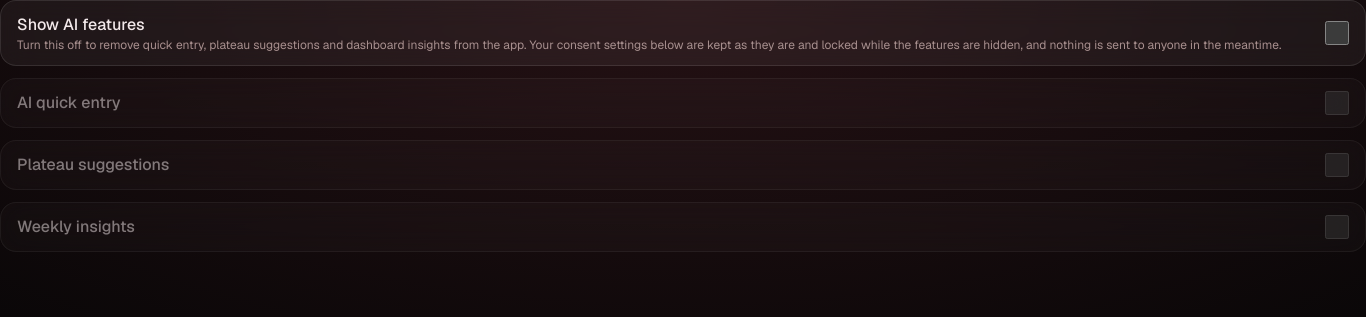
the AI settings section › releases them again when the master switch is turned back on
Click the checkbox labelled "Show AI features".
click(1337, 33)  # box [1325, 21, 1349, 45]
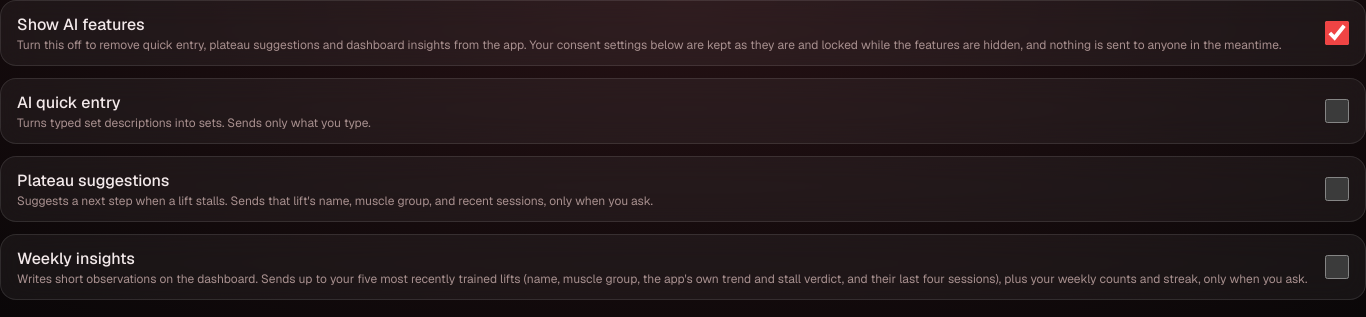
Now the checkbox labelled "AI quick entry" is enabled, box [1325, 99, 1349, 123]
Now the checkbox labelled "Plateau" is enabled, box [1325, 177, 1349, 201]
Now the checkbox labelled "Weekly insights" is enabled, box [1325, 255, 1349, 279]
